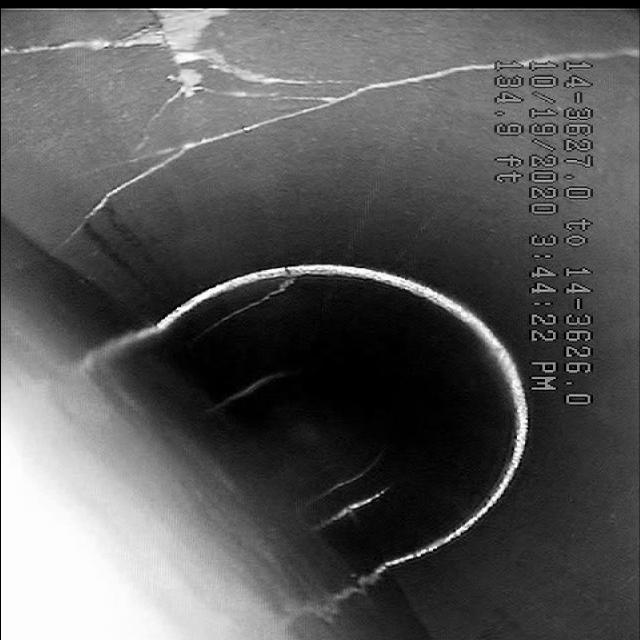Crack: (44, 28, 444, 192)
